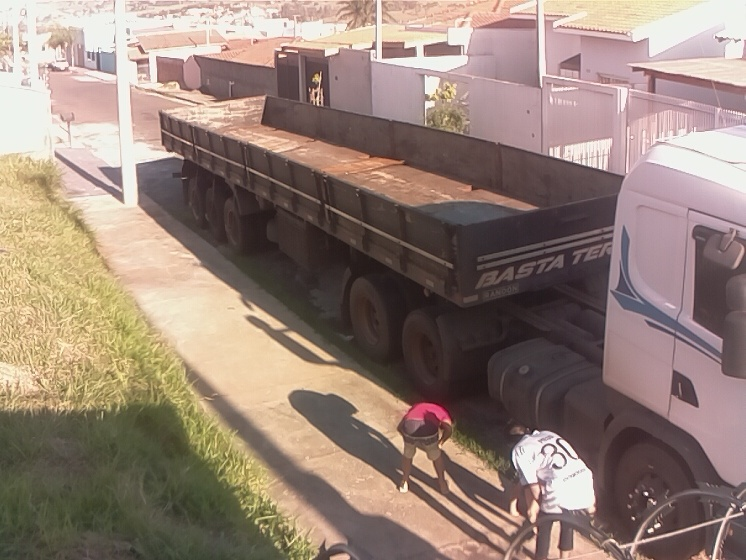person: (498, 417, 599, 560), (394, 401, 460, 501)
